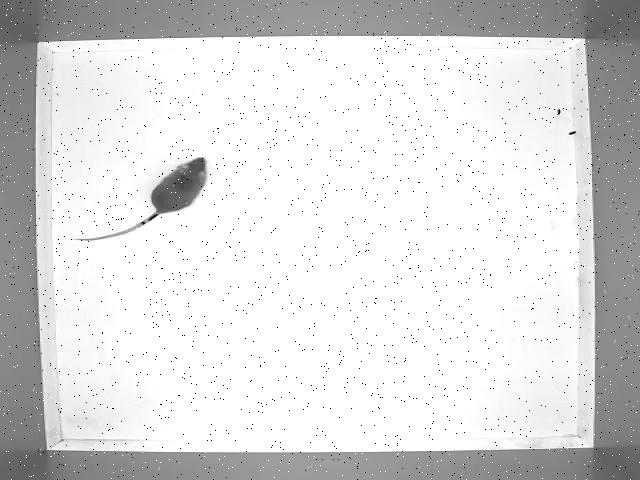Tikus: (69, 155, 211, 245)
